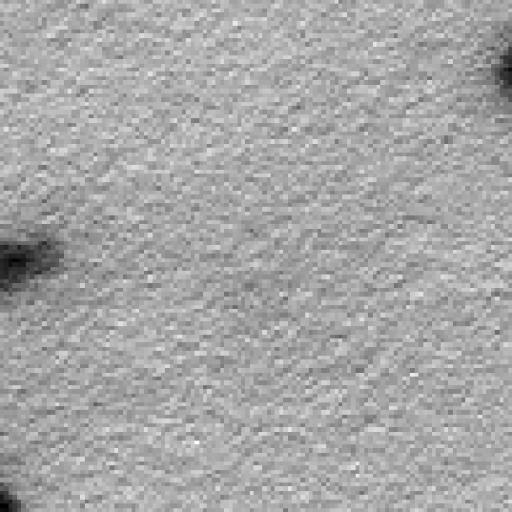Nanoparticles: (0, 237, 35, 301), (20, 230, 67, 276), (492, 40, 512, 108), (0, 484, 19, 512)
